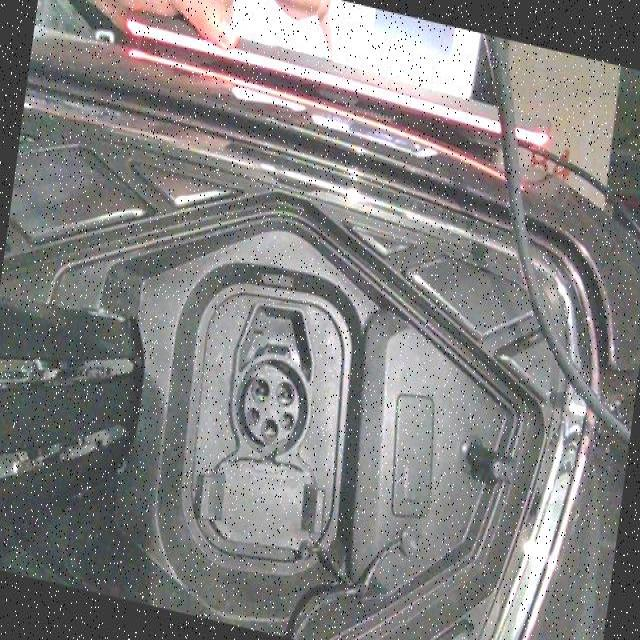Type 1: (235, 351, 309, 460)
